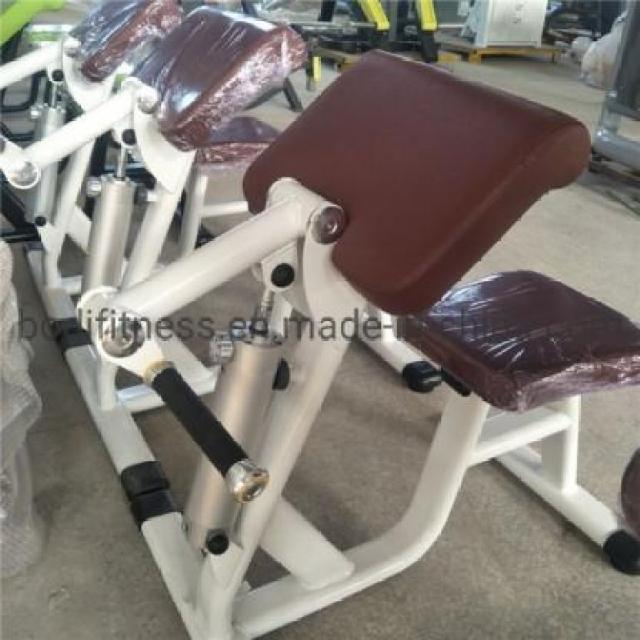arm curl machine: (78, 46, 640, 640)
